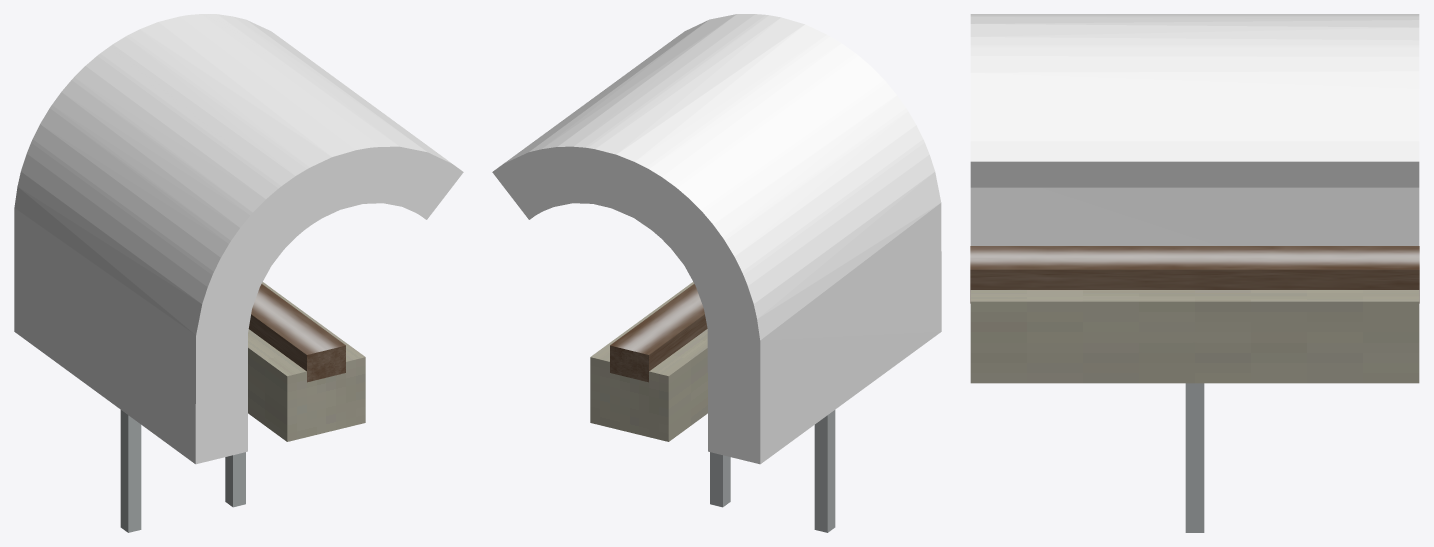
File: ex_dsg_mr.obj
3 renders of one model, left to right at view 1: azimuth 30°, elevation 25°; view 2: azimuth 150°, elevation 25°; view 3: azimuth 270°, elevation 25°, orthographic. The views are drawn at different scales.
Visible parts, largest first — view 1: disangui_r; view 2: disangui_r; view 3: disangui_r.
Boxes of the visible parts, x1,y1,x2,y2 form: disangui_r: (14,14,463,532); disangui_r: (492,14,941,532); disangui_r: (970,14,1419,532).
Size of the model in its own units: 0.5123 by 0.7519 by 0.6001.
5 materials, 5 textured.
